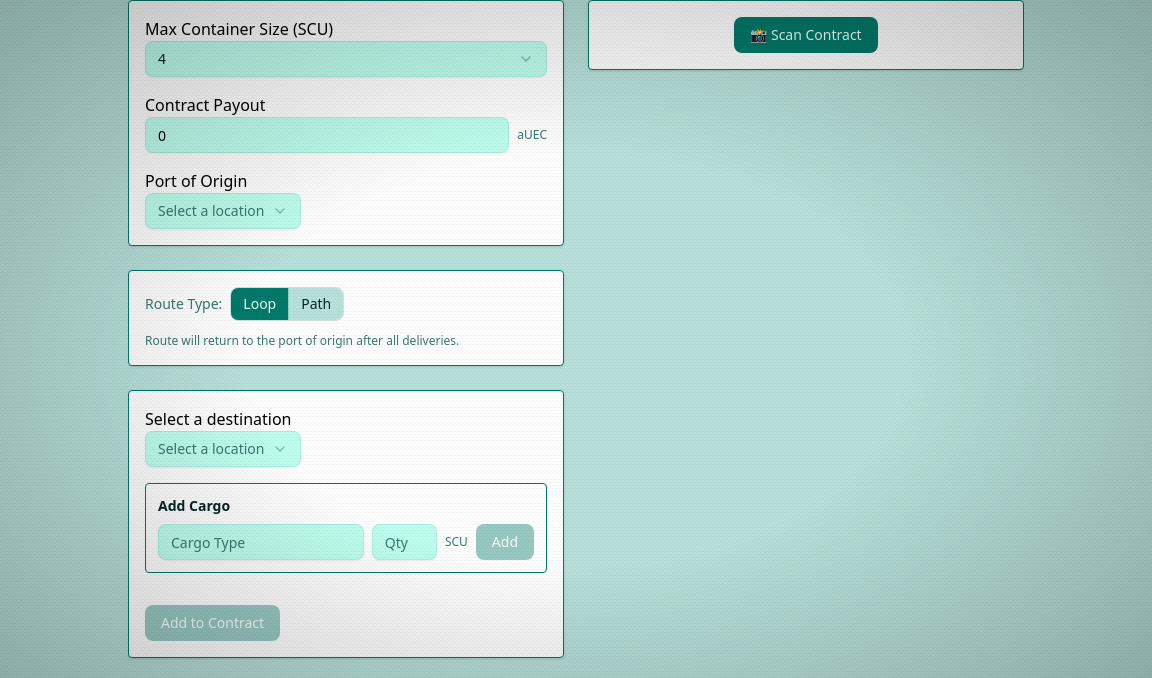
Scenario: ContractForm › Route Type Toggle › should hide end location selector when switching back to Loop
# Switch to Path
What coordinates should you click on to do the following:
click the button "Path"
I would click on:
 (316, 304)
Its box is [288, 288, 343, 320].
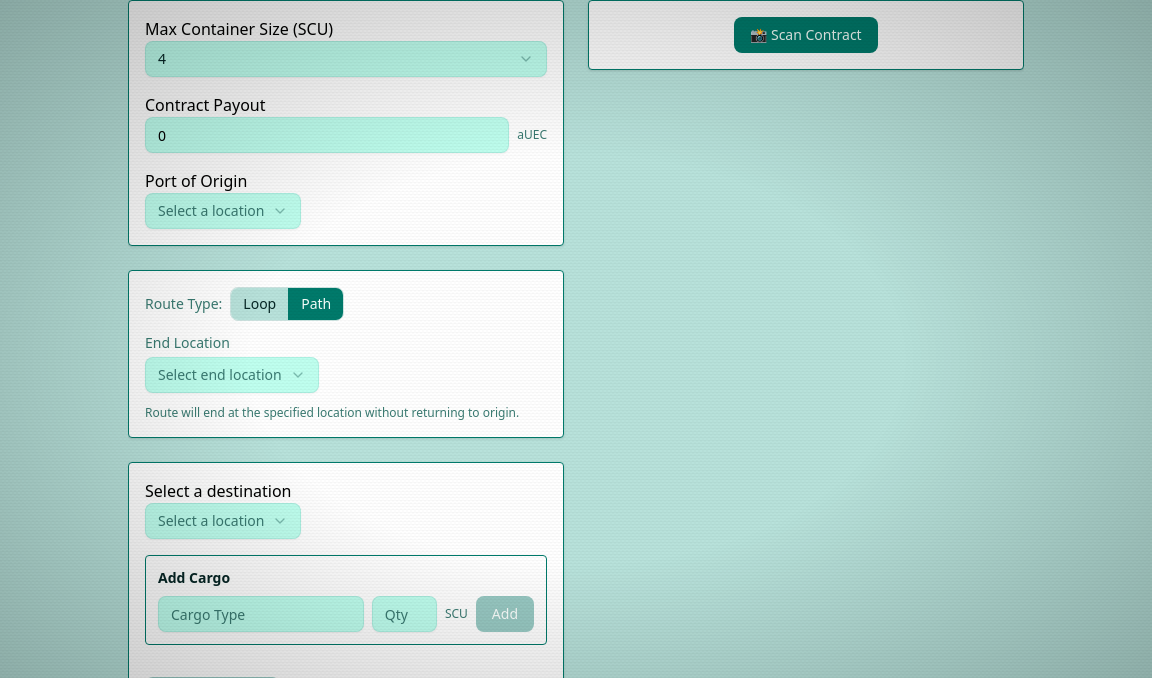
Now the text "End Location" is shown, box [145, 333, 230, 352]
# Switch back to Loop
What coordinates should you click on to do the following:
click the button "Loop"
I would click on:
 (260, 304)
Its box is [231, 288, 288, 320].
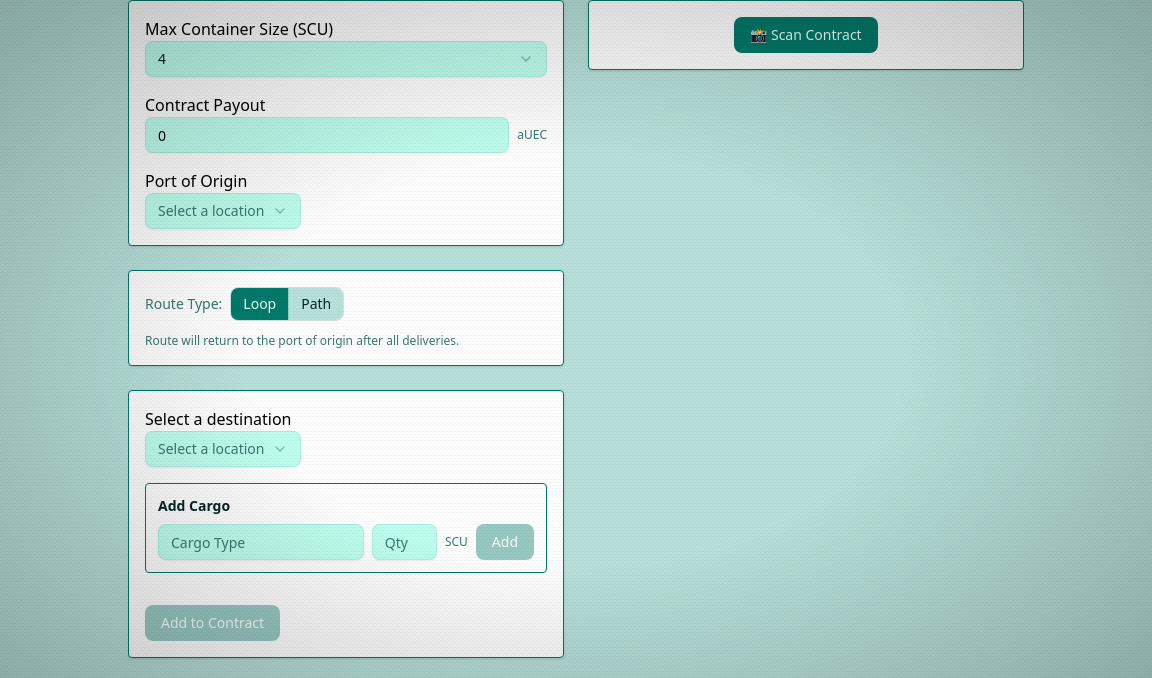
Now the text "End Location" is gone
